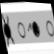correct: (25, 18, 42, 40)
no answer: (15, 20, 27, 40), (44, 17, 54, 40)
not correct: (1, 11, 16, 49)
